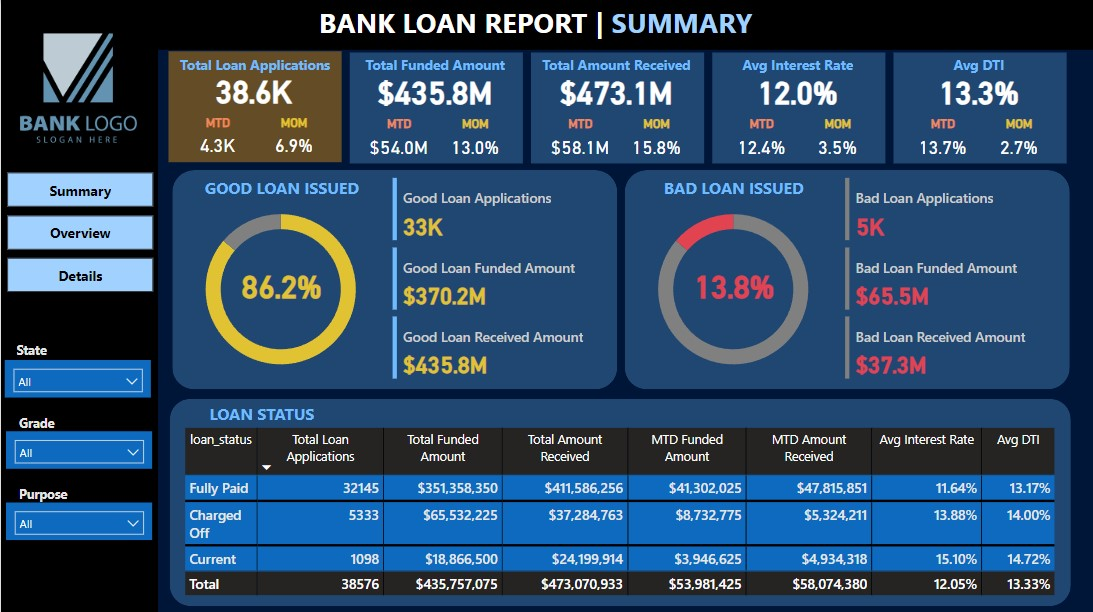

What the dashboard file says about the page in this screenshot:
{"tool":"powerbi","page":{"name":"Summary","canvas":[1280,720],"ordinal":0},"visuals":[{"type":"shape","box":[0,0,1280.3,58.7],"z":0},{"type":"image","box":[17.6,26.4,146.5,153.8],"z":0,"group":"g11"},{"type":"shape","box":[196.7,60,202.9,130],"z":0,"group":"g1"},{"type":"shape","box":[408.9,61.1,202.9,130],"z":0,"group":"g2"},{"type":"shape","box":[621,61.1,202.9,130],"z":0,"group":"g3"},{"type":"shape","box":[833.2,61.1,202.9,130],"z":0,"group":"g4"},{"type":"shape","box":[1045.3,61.4,202.9,130],"z":0,"group":"g5"},{"type":"shape","box":[200,199.4,521.4,257.1],"z":0,"group":"g6"},{"type":"shape","box":[731.4,199.4,521.4,257.1],"z":0,"group":"g7"},{"type":"card","fields":{"Values":["bank_loan_data.Total Loan Applications"]},"box":[161.4,50,270,110.5],"z":1000,"group":"g1"},{"type":"card","fields":{"Values":["bank_loan_data.Total Funded Amount"]},"box":[373.6,51.1,270,110.5],"z":1000,"group":"g2"},{"type":"card","fields":{"Values":["bank_loan_data.Total Amount Received"]},"box":[585.7,51.1,270,110.5],"z":1000,"group":"g3"},{"type":"card","fields":{"Values":["bank_loan_data.Avg Interest Rate"]},"box":[797.9,51.1,270,110.5],"z":1000,"group":"g4"},{"type":"card","fields":{"Values":["bank_loan_data.Avg DTI"]},"box":[1010,51.4,270,110.5],"z":1000,"group":"g5"},{"type":"pageNavigator","box":[7.3,202.1,171.4,142.1],"z":1000,"group":"g11"},{"type":"card","fields":{"Values":["bank_loan_data.Good Loan %"]},"box":[268.6,301.8,118.6,64.3],"z":1000,"group":"g6"},{"type":"card","fields":{"Values":["bank_loan_data.Bad Loan %"]},"box":[800,301.8,118.6,64.3],"z":1000,"group":"g7"},{"type":"shape","box":[197.1,466.6,1055.7,243],"z":1000},{"type":"shape","box":[0,0,184.3,720],"z":2000},{"type":"card","title":"MTD","fields":{"Values":["bank_loan_data.MTD Loan Applications"]},"box":[209.6,134.6,89.1,55.2],"z":2000,"group":"g1"},{"type":"card","title":"MTD","fields":{"Values":["bank_loan_data.MTD Funded Amount"]},"box":[421.8,135.7,89.1,55.2],"z":2000,"group":"g2"},{"type":"card","title":"MTD","fields":{"Values":["bank_loan_data.MTD Amount Received"]},"box":[633.9,135.7,89.1,55.2],"z":2000,"group":"g3"},{"type":"card","title":"MTD","fields":{"Values":["bank_loan_data.MTD Avg Interest Rate"]},"box":[846.1,135.7,89.1,55.2],"z":2000,"group":"g4"},{"type":"card","title":"MTD","fields":{"Values":["bank_loan_data.MTD Avg DTI"]},"box":[1058.2,136,89.1,55.2],"z":2000,"group":"g5"},{"type":"textbox","box":[752.8,201.8,211.4,37.1],"z":2000,"group":"g7"},{"type":"textbox","box":[222.9,202.9,210,37.1],"z":2000,"group":"g6"},{"type":"textbox","box":[14.1,396.1,104.3,31.4],"z":2000,"group":"g8"},{"type":"textbox","box":[15.7,480.9,104.3,31.4],"z":2000,"group":"g9"},{"type":"textbox","box":[15.7,563.1,104.3,31.4],"z":2000,"group":"g10"},{"type":"card","title":"MOM","fields":{"Values":["bank_loan_data.MOM Loan Application"]},"box":[298.7,134.6,89.1,55.2],"z":3000,"group":"g1"},{"type":"card","title":"MOM","fields":{"Values":["bank_loan_data.MOM Funded Amount"]},"box":[510.9,135.7,89.1,55.2],"z":3000,"group":"g2"},{"type":"card","title":"MOM","fields":{"Values":["bank_loan_data.MOM Amount Received"]},"box":[723,135.7,89.1,55.2],"z":3000,"group":"g3"},{"type":"card","title":"MOM","fields":{"Values":["bank_loan_data.MOM Avg Interest Rate"]},"box":[935.2,135.7,89.1,55.2],"z":3000,"group":"g4"},{"type":"card","title":"MOM","fields":{"Values":["bank_loan_data.MOM Avg DTI"]},"box":[1147.3,136,89.1,55.2],"z":3000,"group":"g5"},{"type":"donutChart","fields":{"Category":["bank_loan_data.Good v Bad Loan"],"Y":["bank_loan_data.Total Loan Applications"]},"box":[207.1,224.8,240,230],"z":3000,"group":"g6"},{"type":"donutChart","fields":{"Category":["bank_loan_data.Good v Bad Loan"],"Y":["bank_loan_data.Total Loan Applications"]},"box":[738.5,224.8,240,230],"z":3000,"group":"g7"},{"type":"textbox","box":[200,467,210,37.1],"z":3000},{"type":"textbox","box":[368.1,0,541.7,62.4],"z":4000},{"type":"textbox","box":[199.4,60,197,32],"z":4000,"group":"g1"},{"type":"textbox","box":[410.3,60.3,197.1,31.4],"z":4000,"group":"g2"},{"type":"textbox","box":[622.4,60.3,197.1,31.4],"z":4000,"group":"g3"},{"type":"textbox","box":[834.6,60.3,197.1,31.4],"z":4000,"group":"g4"},{"type":"textbox","box":[1046.7,60.6,197.1,31.4],"z":4000,"group":"g5"},{"type":"cardVisual","fields":{"Data":["bank_loan_data.Good Loan Applications","bank_loan_data.Good Loan Funded Amount","bank_loan_data.Good Loan Received Amount"]},"box":[452.9,203.8,265.7,245.7],"z":4000,"group":"g6"},{"type":"cardVisual","fields":{"Data":["bank_loan_data.Bad Loan Applications","bank_loan_data.Bad Loan Funded Amount","bank_loan_data.Bad Loan Received Amount"]},"box":[984.3,203.8,265.7,245.7],"z":4000,"group":"g7"},{"type":"group","id":"g1","title":"Group 1","box":[161.4,50,270,140],"z":5000},{"type":"group","id":"g2","title":"Group 1","box":[373.6,51.1,270,140],"z":6000},{"type":"group","id":"g3","title":"Group 1","box":[585.7,51.1,270,140],"z":7000},{"type":"group","id":"g4","title":"Group 1","box":[797.9,51.1,270,140],"z":8000},{"type":"group","id":"g5","title":"Group 1","box":[1010,51.4,270,140],"z":9000},{"type":"group","id":"g6","title":"Good Loan Issued","box":[200,199.4,521.4,257.1],"z":10000},{"type":"group","id":"g7","title":"Bad Loan Issued","box":[731.4,199.4,521.4,257.1],"z":11000},{"type":"tableEx","fields":{"Values":["bank_loan_data.loan_status","bank_loan_data.Total Loan Applications","bank_loan_data.Total Funded Amount","bank_loan_data.Total Amount Received","bank_loan_data.MTD Funded Amount","bank_loan_data.MTD Amount Received","bank_loan_data.Avg Interest Rate","bank_loan_data.Avg DTI"]},"box":[210,497.1,1038.6,208.6],"z":12000},{"type":"group","id":"g8","title":"Group 2","box":[5,396.1,171.4,71.1],"z":13000},{"type":"slicer","fields":{"Values":["bank_loan_data.address_state"]},"box":[5,422.9,171.4,44.3],"z":13001,"group":"g8"},{"type":"slicer","fields":{"Values":["bank_loan_data.grade"]},"box":[5.7,505.2,171.4,44.3],"z":13001,"group":"g9"},{"type":"slicer","fields":{"Values":["bank_loan_data.purpose"]},"box":[5.7,587.4,171.4,44.3],"z":13001,"group":"g10"},{"type":"group","id":"g9","title":"Group 3","box":[5.7,480.9,171.4,68.6],"z":14000},{"type":"group","id":"g10","title":"Group 4","box":[5.7,563.1,171.4,68.6],"z":15000},{"type":"group","id":"g11","title":"Group 6","box":[7.3,26.4,171.4,317.8],"z":16000}]}

Visuals, with their boxes in screenshot pixels (x1, y1, x2, y2), scaled from the page's 1280x720 canvas onto the 1093x612 screenshot:
shape: [0,0,1092,50]
image: [15,22,140,153]
shape: [168,51,341,162]
shape: [349,52,522,162]
shape: [530,52,704,162]
shape: [711,52,885,162]
shape: [893,52,1066,163]
shape: [171,169,616,388]
shape: [625,169,1070,388]
card - bank_loan_data.Total Loan Applications: [138,42,368,136]
card - bank_loan_data.Total Funded Amount: [319,43,550,137]
card - bank_loan_data.Total Amount Received: [500,43,731,137]
card - bank_loan_data.Avg Interest Rate: [681,43,912,137]
card - bank_loan_data.Avg DTI: [862,44,1092,138]
pageNavigator: [6,172,153,293]
card - bank_loan_data.Good Loan %: [229,257,331,311]
card - bank_loan_data.Bad Loan %: [683,257,784,311]
shape: [168,397,1070,603]
shape: [0,0,157,611]
"MTD" card: [179,114,255,161]
"MTD" card: [360,115,436,162]
"MTD" card: [541,115,617,162]
"MTD" card: [722,115,799,162]
"MTD" card: [904,116,980,163]
textbox: [643,172,823,203]
textbox: [190,172,370,204]
textbox: [12,337,101,363]
textbox: [13,409,102,435]
textbox: [13,479,102,505]
"MOM" card: [255,114,331,161]
"MOM" card: [436,115,512,162]
"MOM" card: [617,115,693,162]
"MOM" card: [799,115,875,162]
"MOM" card: [980,116,1056,163]
donutChart - bank_loan_data.Good v Bad Loan x bank_loan_data.Total Loan Applications: [177,191,382,387]
donutChart - bank_loan_data.Good v Bad Loan x bank_loan_data.Total Loan Applications: [631,191,836,387]
textbox: [171,397,350,428]
textbox: [314,0,777,53]
textbox: [170,51,338,78]
textbox: [350,51,519,78]
textbox: [531,51,700,78]
textbox: [713,51,881,78]
textbox: [894,52,1062,78]
cardVisual - bank_loan_data.Good Loan Applications x bank_loan_data.Good Loan Funded Amount: [387,173,614,382]
cardVisual - bank_loan_data.Bad Loan Applications x bank_loan_data.Bad Loan Funded Amount: [840,173,1067,382]
"Group 1" group: [138,42,368,162]
"Group 1" group: [319,43,550,162]
"Group 1" group: [500,43,731,162]
"Group 1" group: [681,43,912,162]
"Group 1" group: [862,44,1092,163]
"Good Loan Issued" group: [171,169,616,388]
"Bad Loan Issued" group: [625,169,1070,388]
tableEx - bank_loan_data.loan_status x bank_loan_data.Total Loan Applications: [179,423,1066,600]
"Group 2" group: [4,337,151,397]
slicer - bank_loan_data.address_state: [4,359,151,397]
slicer - bank_loan_data.grade: [5,429,151,467]
slicer - bank_loan_data.purpose: [5,499,151,537]
"Group 3" group: [5,409,151,467]
"Group 4" group: [5,479,151,537]
"Group 6" group: [6,22,153,293]
